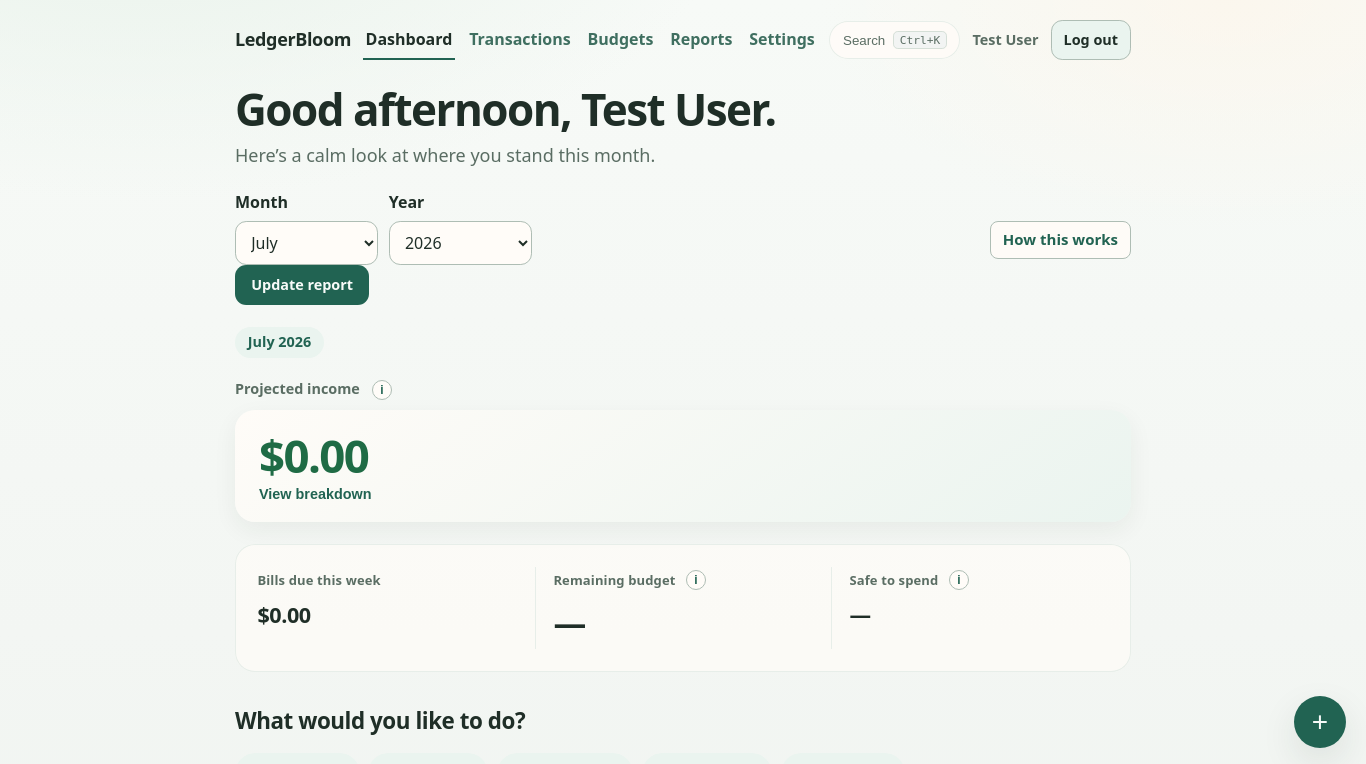
Test: Income routes › navigates from Dashboard to Income via Transactions
The image size is (1366, 764).
Check: the heading "Good afternoon, Test User." is shown, box [235,79,776,139]
Click the link "Transactions". click: (520, 39)
box: [469,28,571,50]
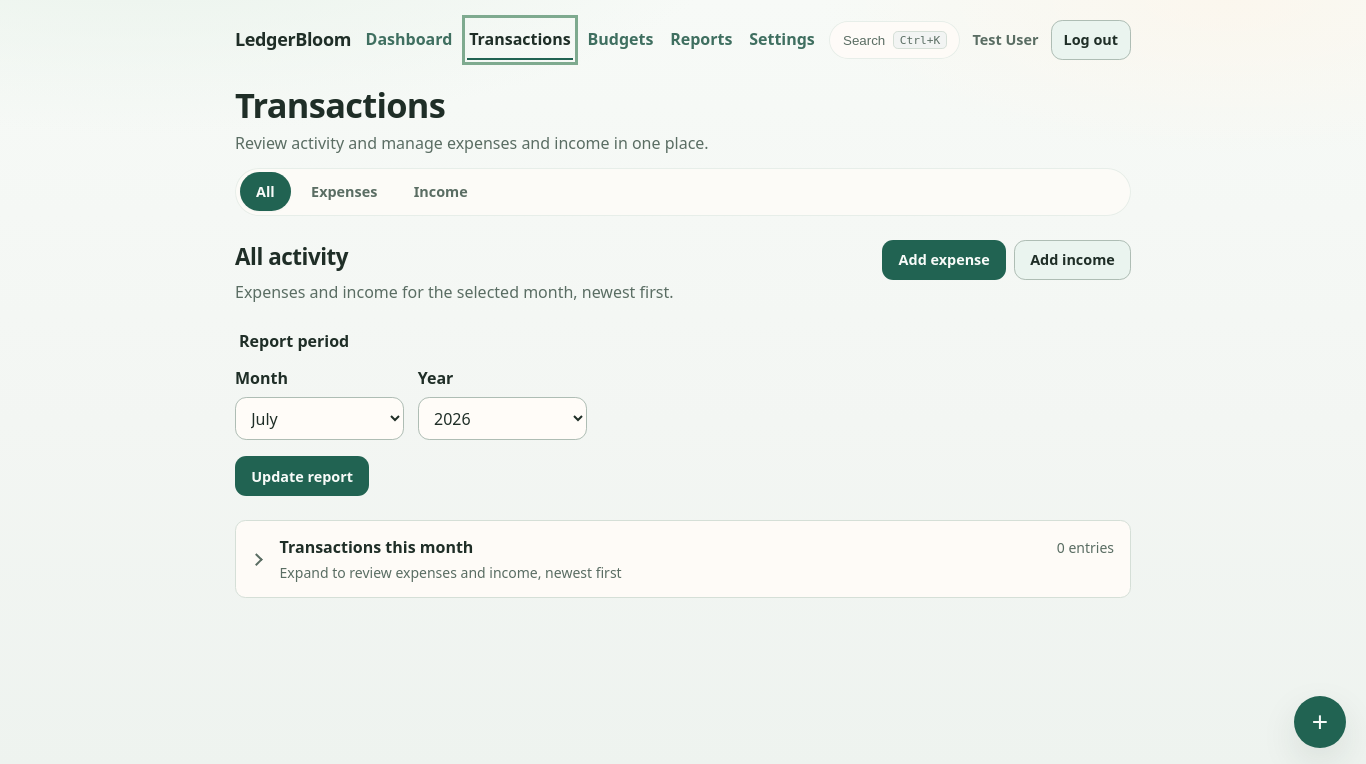
Check: the heading "All activity" is shown, box [235,241,348,272]
Click the link "Income". click: (441, 191)
box: [414,182,468,200]
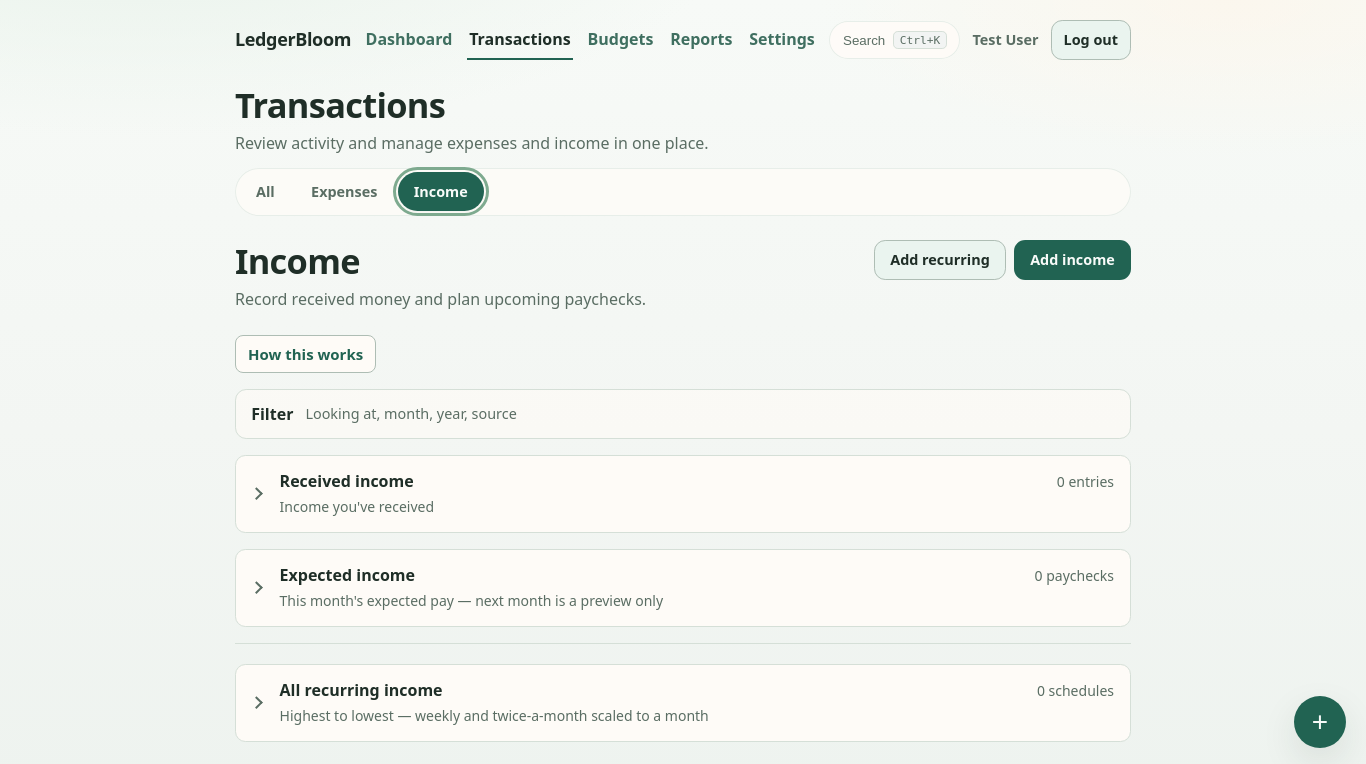
Check: the heading "Income" is shown, box [235,237,360,284]
